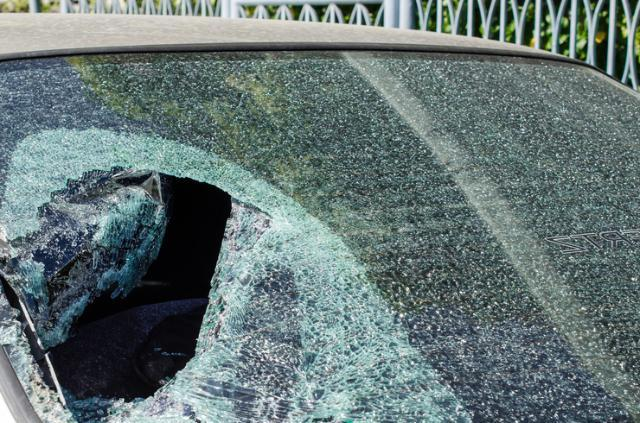Windshield: (0, 48, 640, 423)
